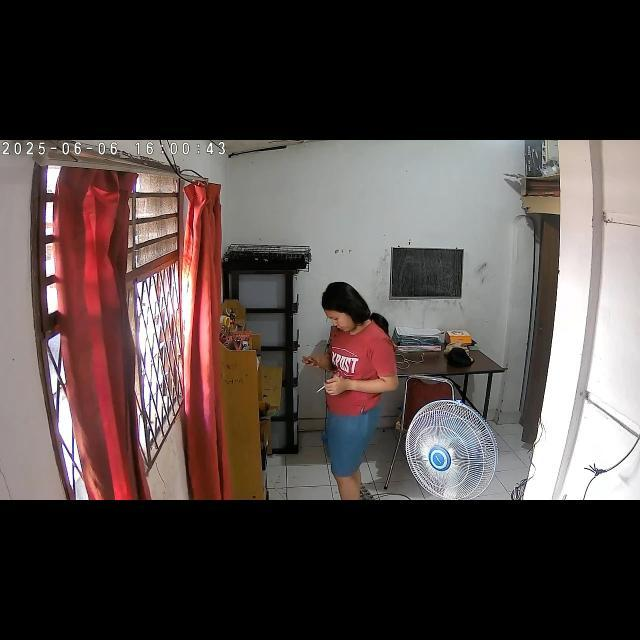rokok: (313, 381, 327, 397)
